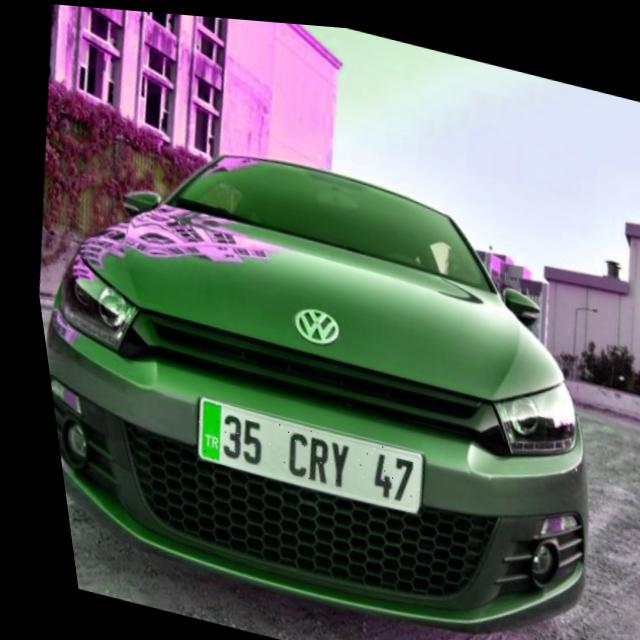license_plate: (177, 392, 418, 510)
